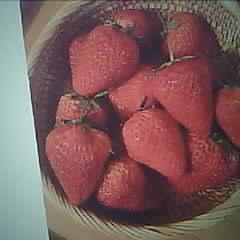straw-ripe: (47, 127, 112, 205), (74, 26, 140, 95), (154, 60, 211, 135), (123, 109, 186, 176)
